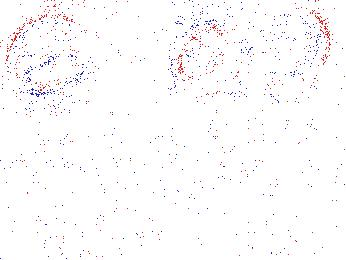moon jellyfish: (231, 9, 331, 86), (5, 17, 95, 95), (170, 24, 242, 98), (114, 17, 191, 82)
